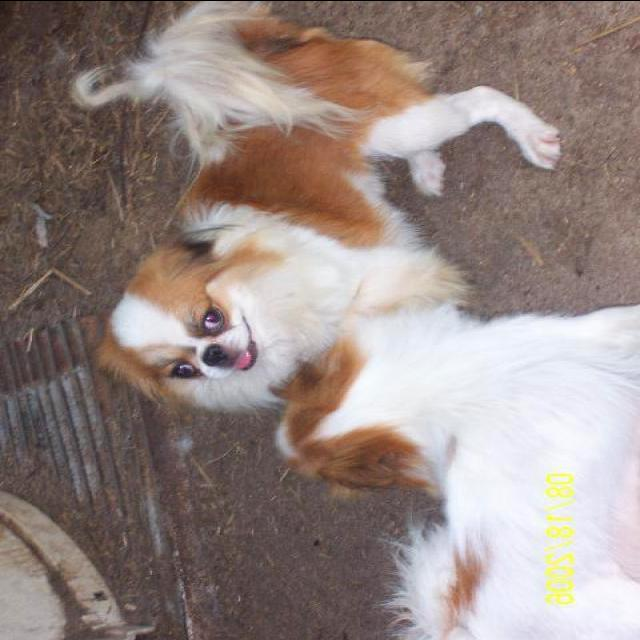husky: (68, 0, 554, 414), (268, 304, 638, 638)
